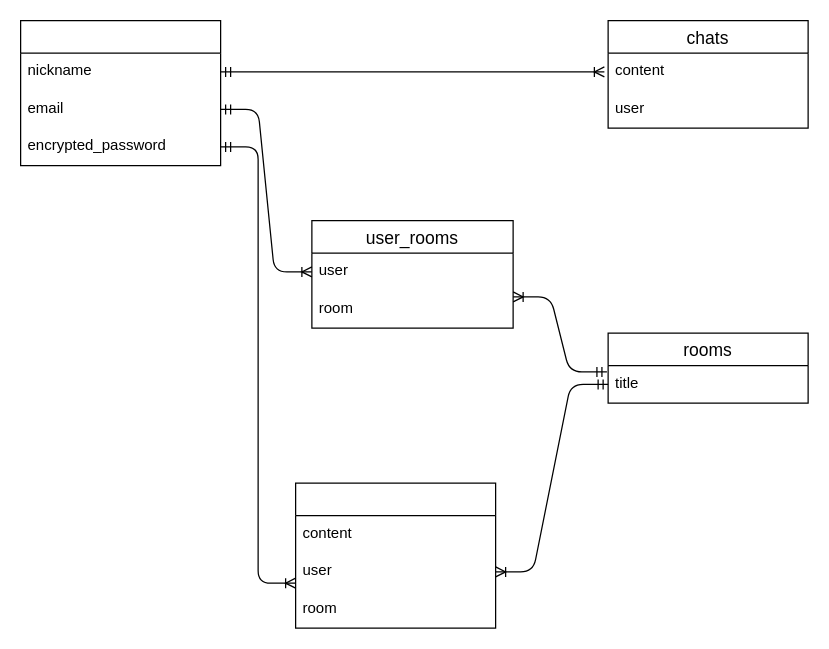
Some shapes in this 829 by 649 pixel diagram are drawn without their labels. Here are the shapes that lost their labels. From the top down, the box of each, then its label:
(19, 19, 221, 166): users
(294, 482, 496, 628): messages
